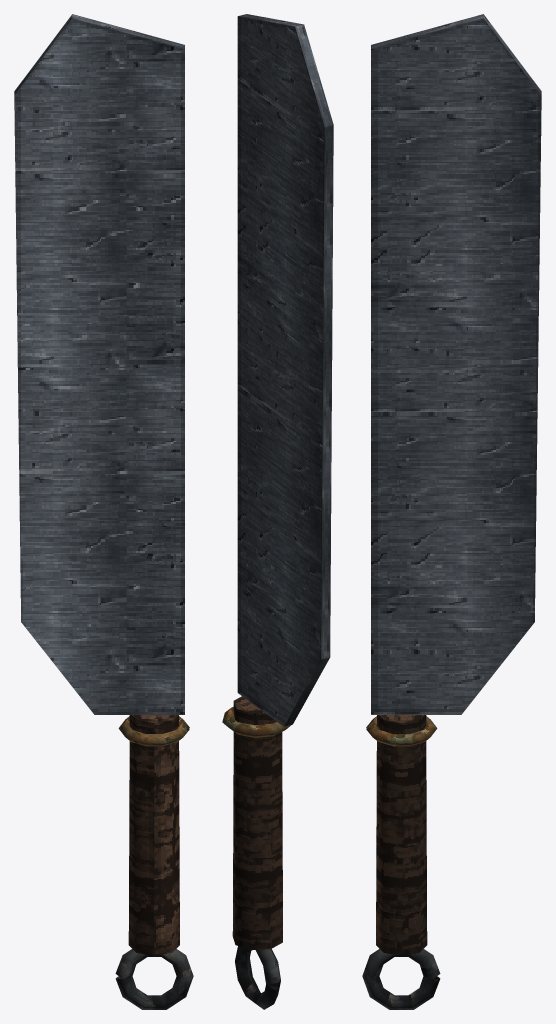
The model's file is bone_cleaver.glb.
The picture shows the model from 3 angles, left to right: view 1: azimuth 90°, elevation 25°; view 2: azimuth 210°, elevation 25°; view 3: azimuth 270°, elevation 25°; orthographic projection.
Visible parts, largest first — view 1: bone_cleaver; view 2: bone_cleaver; view 3: bone_cleaver.
Boxes of the visible parts, x1,y1,x2,y2 form: bone_cleaver: (14,14,193,1009); bone_cleaver: (222,14,333,1009); bone_cleaver: (362,14,541,1009).
Size of the model in its own units: 0.0399 by 0.6419 by 0.105.
Materials: 1 (1 with a texture image).
